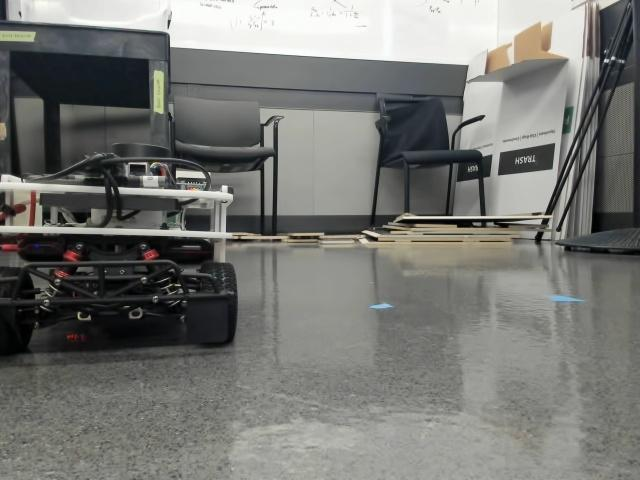Car: (0, 140, 236, 347)
